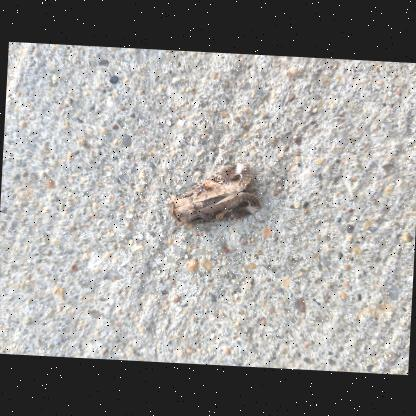Fall Armyworm Moth: (158, 157, 265, 239)
